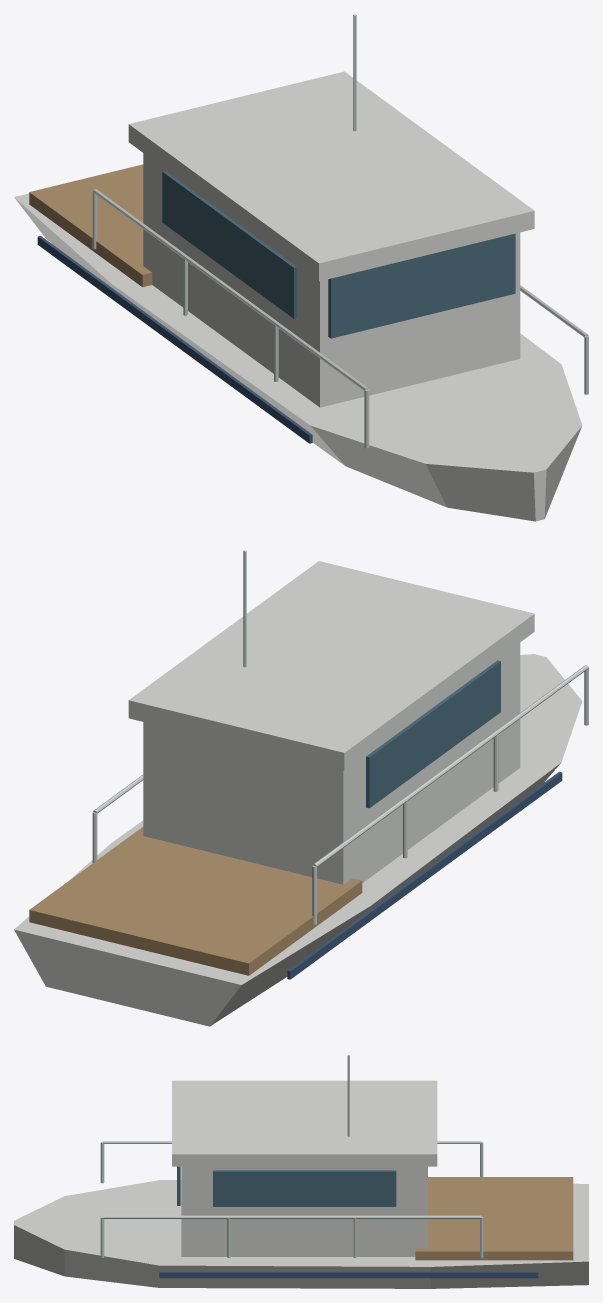
File: harbor-cruiser.glb
3 views of the same model, one above another, from view 1: azimuth 30°, elevation 25°; view 2: azimuth 150°, elevation 25°; view 3: azimuth 270°, elevation 25° (orthographic). The views are drawn at different scales.
Parts seen in each view (by area): view 1: Cruiser hull, Front windshield, Teak cockpit, Boat rail post, Hull stripe; view 2: Cruiser hull, Teak cockpit, Front windshield, Boat rail post, Hull stripe; view 3: Cruiser hull, Teak cockpit, Front windshield, Boat rail post, Hull stripe.
Boxes of the visible parts, bbox=[...] form: Cruiser hull: bbox=[14, 71, 582, 521]; Front windshield: bbox=[162, 171, 515, 338]; Teak cockpit: bbox=[29, 164, 152, 287]; Boat rail post: bbox=[92, 14, 588, 448]; Hull stripe: bbox=[37, 236, 312, 443]; Cruiser hull: bbox=[14, 561, 582, 1026]; Teak cockpit: bbox=[29, 827, 362, 975]; Front windshield: bbox=[366, 660, 500, 808]; Boat rail post: bbox=[92, 550, 588, 924]; Hull stripe: bbox=[287, 771, 562, 979]; Cruiser hull: bbox=[14, 1080, 588, 1288]; Teak cockpit: bbox=[415, 1177, 573, 1260]; Front windshield: bbox=[177, 1166, 396, 1206]; Boat rail post: bbox=[100, 1055, 483, 1257]; Hull stripe: bbox=[159, 1271, 538, 1278].
Size of the model in its own units: 3.3 by 3.85 by 9.1.
